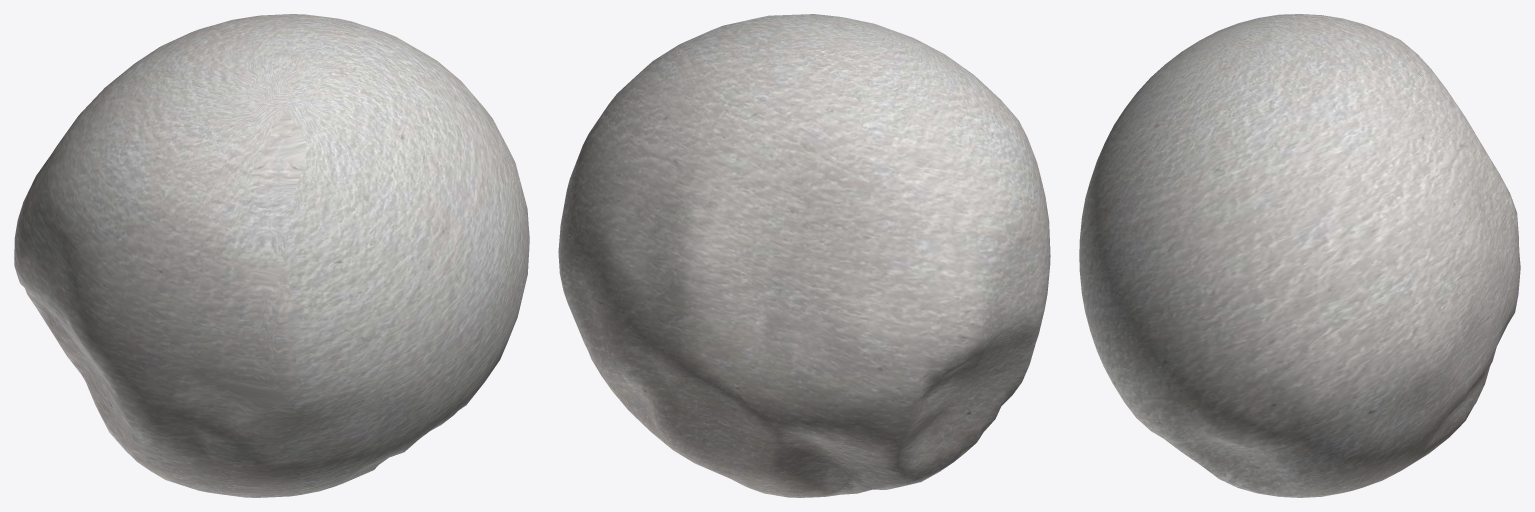
File: larissa.gltf
The picture shows the model from 3 angles, left to right: view 1: azimuth 30°, elevation 25°; view 2: azimuth 150°, elevation 25°; view 3: azimuth 270°, elevation 25°; orthographic projection. The views are drawn at different scales.
Visible parts, largest first — view 1: larissa; view 2: larissa; view 3: larissa.
Part boxes in pixels (box(x1,y1,x2,y2)): larissa: box(14, 14, 529, 497); larissa: box(558, 14, 1050, 497); larissa: box(1079, 14, 1520, 497).
Size of the model in its own units: 201 by 193 by 178.
1 material, 1 textured.
